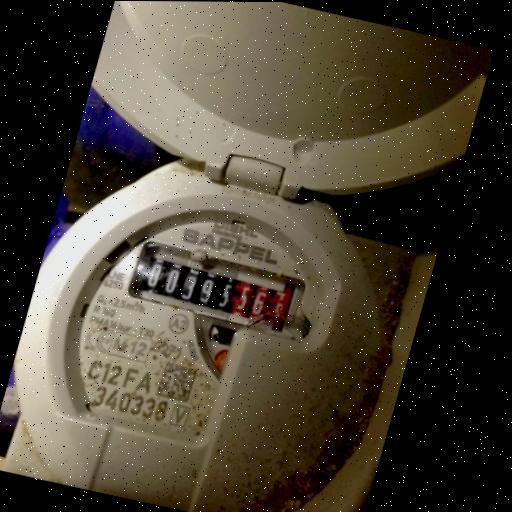0: (140, 255, 169, 293), (158, 261, 185, 299)
3: (176, 265, 203, 303)
5: (226, 280, 255, 318), (211, 275, 238, 313), (266, 286, 294, 318)
6: (247, 285, 269, 320)
9: (193, 270, 219, 307)
border_water_meter_number: (122, 238, 309, 335)
